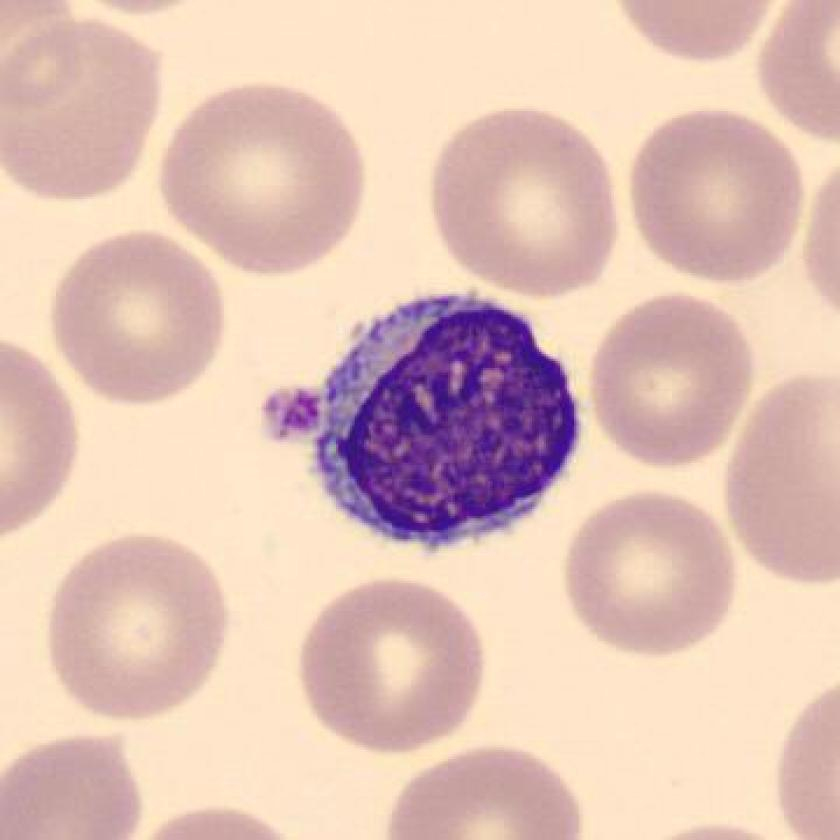lymphocyte: (293, 286, 598, 563)
